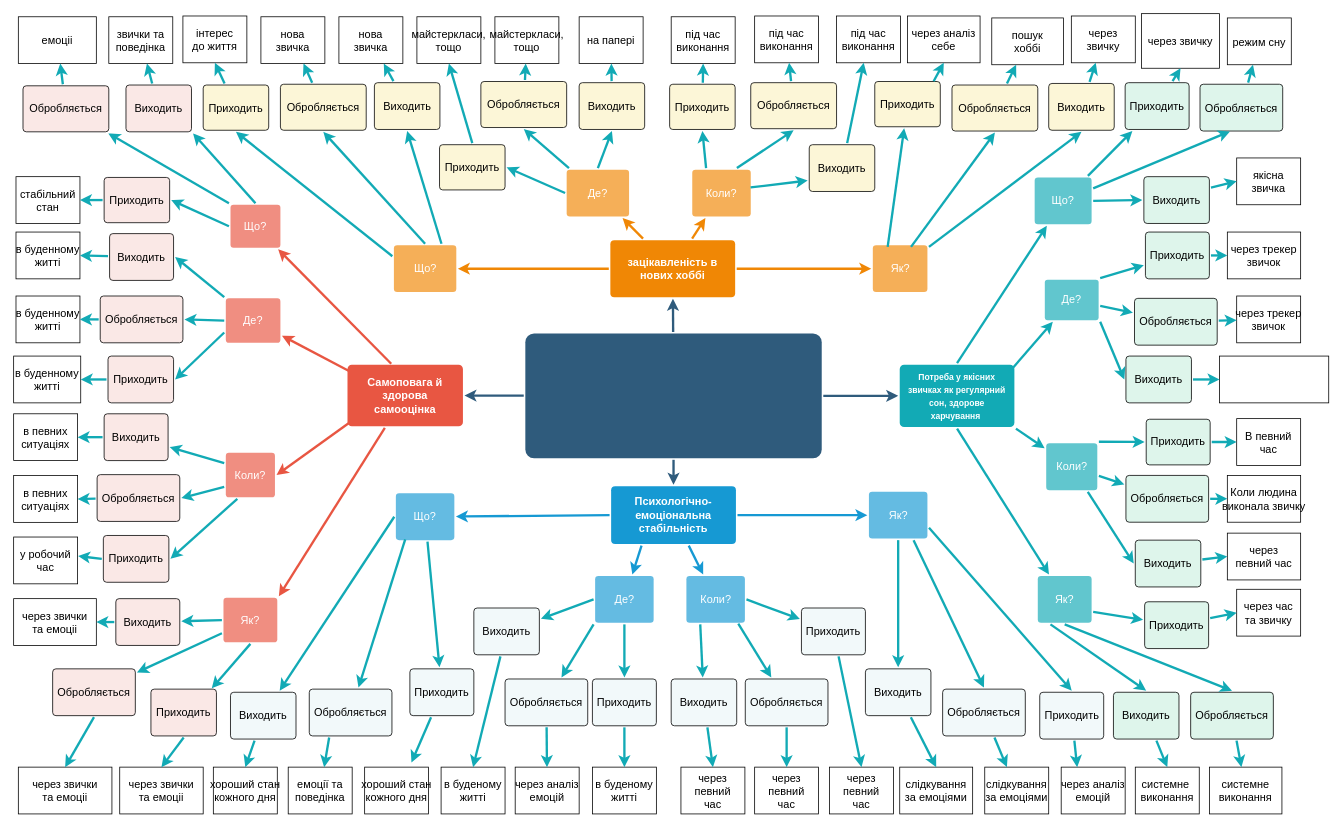
Image size: 1342x828. Some labels were removed from this diagram. Here are the shapes that lost their labels. From the top down, the box of each, then its label:
(525, 333, 821, 458): Трекер-щоденник емоційного стану та звичок
(1219, 355, 1329, 403): Виконання звичок через додаток
